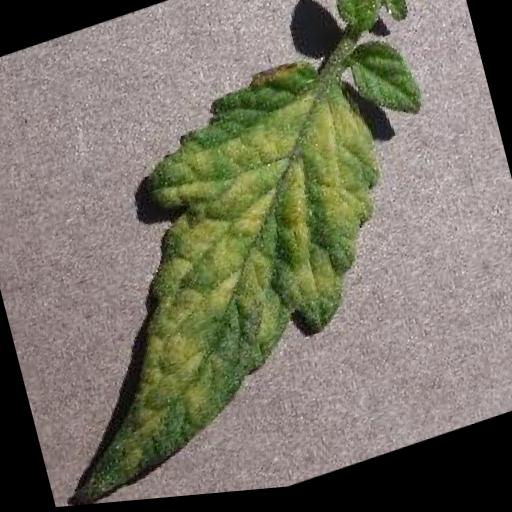Leaf Mold: (0, 44, 432, 512)
